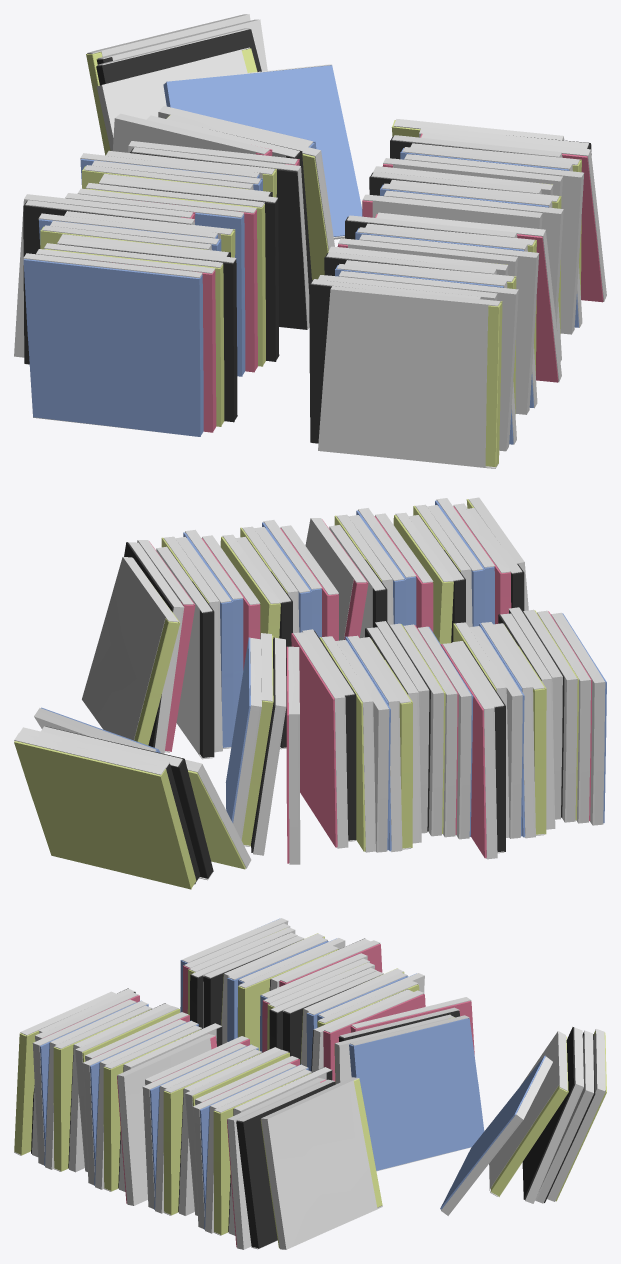
File: chambre test biblio m5.fbx
3 renders of one model, top to bottom at view 1: azimuth 30°, elevation 25°; view 2: azimuth 150°, elevation 25°; view 3: azimuth 270°, elevation 25°, orthographic. The views are drawn at different scales.
Visible parts, largest first — view 1: CD_Pochette_Fermee_C.088|CD_Pochette_Fermee_C.103|Dupli|1, CD_Pochette_Fermee_D.121|Dessus_pochette.004|Dupli|, CD_Pochette_Fermee_C.092|CD_Pochette_Fermee_C.103|Dupli|1, CD_Pochette_Fermee_D.112|Dessus_pochette.004|Dupli|, CD_Pochette_Fermee_A.096|CD_Pochette_Fermee_A.107|Dupli|, CD_Pochette_Fermee_C.098|Dessus_pochette.003|Dupli|, CD_Pochette_Fermee_C.094|Dessus_pochette.003|Dupli|, CD_Pochette_Fermee_C.100|Dessus_pochette.003|Dupli|, CD_Pochette_Fermee_A.097|CD_Pochette_Fermee_A.107|Dupli|, CD_Pochette_Fermee_B.064|Dessus_pochette.002|Dupli|, CD_Pochette_Fermee_B.061|Dessus_pochette.002|Dupli|, CD_Pochette_Fermee_A.105|CD_Pochette_Fermee_A.107|Dupli| (+63 smaller); view 2: CD_Pochette_Fermee_D.111|CD_Pochette_Fermee_D.123|Dupli|1, CD_Pochette_Fermee_D.116|Dessus_pochette.004|Dupli|, CD_Pochette_Fermee_B.059|CD_Pochette_Fermee_B.069|Dupli|1, CD_Pochette_Fermee_A.100|Dessus_pochette.001|Dupli|1, CD_Pochette_Fermee_C.086|Dessus_pochette.003|Dupli|, CD_Pochette_Fermee_C.089|Dessus_pochette.003|Dupli|, CD_Pochette_Fermee_D.109|Dessus_pochette.004|Dupli|, CD_Pochette_Fermee_D.106|Dessus_pochette.004|Dupli|, CD_Pochette_Fermee_C.091|Dessus_pochette.003|Dupli|, CD_Pochette_Fermee_C.088|Dessus_pochette.003|Dupli|, CD_Pochette_Fermee_B.060|Dessus_pochette.002|Dupli|, CD_Pochette_Fermee_B.058|Dessus_pochette.002|Dupli| (+85 smaller); view 3: CD_Pochette_Fermee_C.093|CD_Pochette_Fermee_C.103|Dupli|1, CD_Pochette_Fermee_D.116|Dessus_pochette.004|Dupli|, CD_Pochette_Fermee_B.066|Dessus_pochette.002|Dupli|, CD_Pochette_Fermee_A.101|CD_Pochette_Fermee_A.107|Dupli|, CD_Pochette_Fermee_D.112|Dessus_pochette.004|Dupli|, CD_Pochette_Fermee_D.120|CD_Pochette_Fermee_D.123|Dupli|1, CD_Pochette_Fermee_D.117|CD_Pochette_Fermee_D.123|Dupli|1, CD_Pochette_Fermee_B.063|Dessus_pochette.002|Dupli|, CD_Pochette_Fermee_D.115|CD_Pochette_Fermee_D.123|Dupli|1, CD_Pochette_Fermee_D.119|CD_Pochette_Fermee_D.123|Dupli|1, CD_Pochette_Fermee_D.121|CD_Pochette_Fermee_D.123|Dupli|1, CD_Pochette_Fermee_A.098|Dessus_pochette.001|Dupli|1 (+74 smaller).
Part boxes in pixels (x1,y1,x2,y2): CD_Pochette_Fermee_C.088|CD_Pochette_Fermee_C.103|Dupli|1: (23,259,203,436); CD_Pochette_Fermee_D.121|Dessus_pochette.004|Dupli|: (318,286,500,468); CD_Pochette_Fermee_C.092|CD_Pochette_Fermee_C.103|Dupli|1: (163,65,362,236); CD_Pochette_Fermee_D.112|Dessus_pochette.004|Dupli|: (97,47,249,150); CD_Pochette_Fermee_A.096|CD_Pochette_Fermee_A.107|Dupli|: (130,148,307,329); CD_Pochette_Fermee_C.098|Dessus_pochette.003|Dupli|: (359,234,539,414); CD_Pochette_Fermee_C.094|Dessus_pochette.003|Dupli|: (404,154,584,334); CD_Pochette_Fermee_C.100|Dessus_pochette.003|Dupli|: (338,271,518,451); CD_Pochette_Fermee_A.097|CD_Pochette_Fermee_A.107|Dupli|: (96,29,261,85); CD_Pochette_Fermee_B.064|Dessus_pochette.002|Dupli|: (362,194,542,229); CD_Pochette_Fermee_B.061|Dessus_pochette.002|Dupli|: (112,113,269,154); CD_Pochette_Fermee_A.105|CD_Pochette_Fermee_A.107|Dupli|: (309,280,331,443); CD_Pochette_Fermee_D.111|CD_Pochette_Fermee_D.123|Dupli|1: (14,741,196,889); CD_Pochette_Fermee_D.116|Dessus_pochette.004|Dupli|: (82,556,178,740); CD_Pochette_Fermee_B.059|CD_Pochette_Fermee_B.069|Dupli|1: (291,633,337,847); CD_Pochette_Fermee_A.100|Dessus_pochette.001|Dupli|1: (156,546,212,759); CD_Pochette_Fermee_C.086|Dessus_pochette.003|Dupli|: (469,626,522,838); CD_Pochette_Fermee_C.089|Dessus_pochette.003|Dupli|: (335,639,389,852); CD_Pochette_Fermee_D.109|Dessus_pochette.004|Dupli|: (389,623,443,836); CD_Pochette_Fermee_D.106|Dessus_pochette.004|Dupli|: (523,609,577,822); CD_Pochette_Fermee_C.091|Dessus_pochette.003|Dupli|: (417,626,471,839); CD_Pochette_Fermee_C.088|Dessus_pochette.003|Dupli|: (551,612,605,825); CD_Pochette_Fermee_B.060|Dessus_pochette.002|Dupli|: (403,624,457,837); CD_Pochette_Fermee_B.058|Dessus_pochette.002|Dupli|: (537,610,590,823); CD_Pochette_Fermee_C.093|CD_Pochette_Fermee_C.103|Dupli|1: (349,1018,484,1170); CD_Pochette_Fermee_D.116|Dessus_pochette.004|Dupli|: (261,1077,382,1249); CD_Pochette_Fermee_B.066|Dessus_pochette.002|Dupli|: (117,1034,215,1205); CD_Pochette_Fermee_A.101|CD_Pochette_Fermee_A.107|Dupli|: (236,1082,335,1248); CD_Pochette_Fermee_D.112|Dessus_pochette.004|Dupli|: (489,1031,567,1196); CD_Pochette_Fermee_D.120|CD_Pochette_Fermee_D.123|Dupli|1: (53,1009,150,1171); CD_Pochette_Fermee_D.117|CD_Pochette_Fermee_D.123|Dupli|1: (163,1053,260,1215); CD_Pochette_Fermee_B.063|Dessus_pochette.002|Dupli|: (227,1077,325,1249); CD_Pochette_Fermee_D.115|CD_Pochette_Fermee_D.123|Dupli|1: (213,1073,310,1235); CD_Pochette_Fermee_D.119|CD_Pochette_Fermee_D.123|Dupli|1: (103,1029,200,1191); CD_Pochette_Fermee_D.121|CD_Pochette_Fermee_D.123|Dupli|1: (14,1030,39,1155); CD_Pochette_Fermee_A.098|Dessus_pochette.001|Dupli|1: (535,1030,593,1203).
Size of the model in its own units: 48.96 by 13.96 by 57.61.
